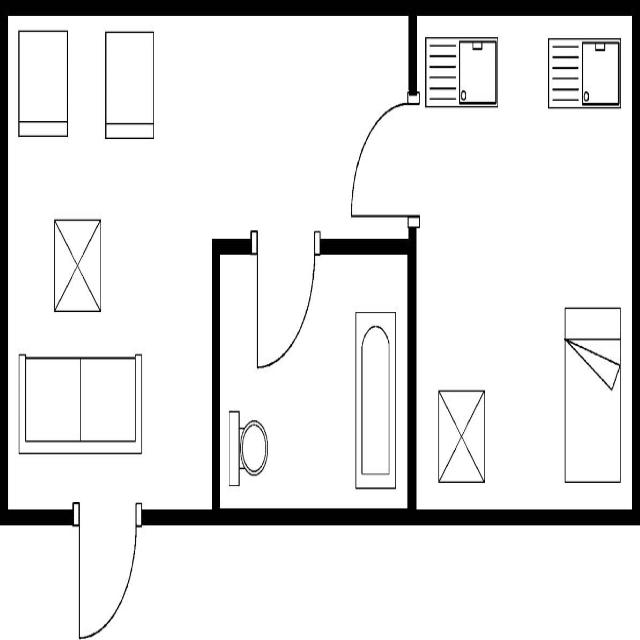bed: (559, 299, 623, 487)
coffee_table: (434, 382, 487, 495), (51, 209, 104, 318)
large_sink: (226, 406, 270, 492)
large_sofa: (14, 346, 145, 463)
sink: (544, 28, 624, 116), (422, 30, 502, 114)
small_sofa: (100, 22, 158, 146), (13, 23, 71, 144)
tub: (352, 304, 398, 496)
